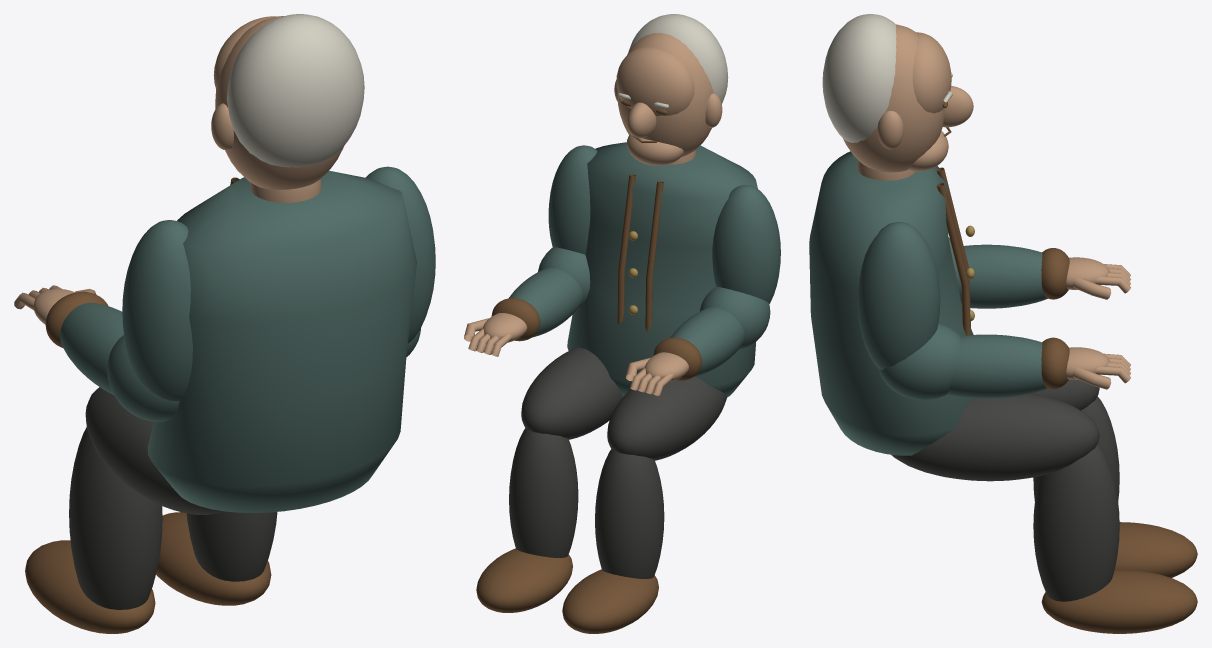
Rendered from grandpa.glb.
3 renders of one model, left to right at view 1: azimuth 30°, elevation 25°; view 2: azimuth 150°, elevation 25°; view 3: azimuth 270°, elevation 25°, orthographic. The views are drawn at different scales.
Parts seen in each view (by area): view 1: CardiganBody, HairBack, TrouserShin, UpperSleeve, TrouserThigh, SoftShoe, TrouserShin.001, SoftShoe.001, LowerSleeve, UpperSleeve.001, Face, BentElbow (+5 smaller); view 2: CardiganBody, TrouserShin.001, TrouserShin, TrouserThigh, TrouserThigh.001, UpperSleeve, SoftShoe.001, SoftShoe, Forehead, Face, UpperSleeve.001, HairBack (+13 smaller); view 3: CardiganBody, TrouserThigh.001, TrouserShin.001, UpperSleeve.001, HairBack, SoftShoe.001, LowerSleeve.001, Face, LowerSleeve, BentElbow.001, SoftShoe, Forehead (+10 smaller).
Boxes of the visible parts, <box> form: CardiganBody: <box>147,170,416,512</box>; HairBack: <box>227,14,364,167</box>; TrouserShin: <box>69,427,162,609</box>; UpperSleeve: <box>122,220,192,400</box>; TrouserThigh: <box>85,387,223,514</box>; SoftShoe: <box>25,540,155,633</box>; TrouserShin.001: <box>186,511,277,581</box>; SoftShoe.001: <box>156,512,271,605</box>; LowerSleeve: <box>60,303,123,394</box>; UpperSleeve.001: <box>365,166,435,343</box>; Face: <box>215,16,343,189</box>; BentElbow: <box>107,335,179,421</box>; CardiganBody: <box>567,142,757,397</box>; TrouserShin.001: <box>509,428,578,557</box>; TrouserShin: <box>595,449,664,578</box>; TrouserThigh: <box>607,376,726,460</box>; TrouserThigh.001: <box>521,347,622,439</box>; UpperSleeve: <box>712,185,780,303</box>; SoftShoe.001: <box>476,548,572,612</box>; SoftShoe: <box>562,569,658,633</box>; Forehead: <box>616,47,694,115</box>; Face: <box>617,33,713,156</box>; UpperSleeve.001: <box>548,145,597,254</box>; HairBack: <box>628,14,728,104</box>; CardiganBody: <box>809,151,973,455</box>; TrouserThigh.001: <box>891,393,1099,481</box>; TrouserShin.001: <box>1033,444,1119,601</box>; UpperSleeve.001: <box>857,222,940,369</box>; HairBack: <box>822,14,896,142</box>; SoftShoe.001: <box>1041,570,1197,633</box>; LowerSleeve.001: <box>947,334,1047,398</box>; Face: <box>843,24,944,172</box>; LowerSleeve: <box>956,244,1047,308</box>; BentElbow.001: <box>878,323,960,399</box>; SoftShoe: <box>1114,522,1197,577</box>; Forehead: <box>912,32,951,113</box>.
Bounding box in the file's own units: 0.8835 × 1.94 × 1.17.
